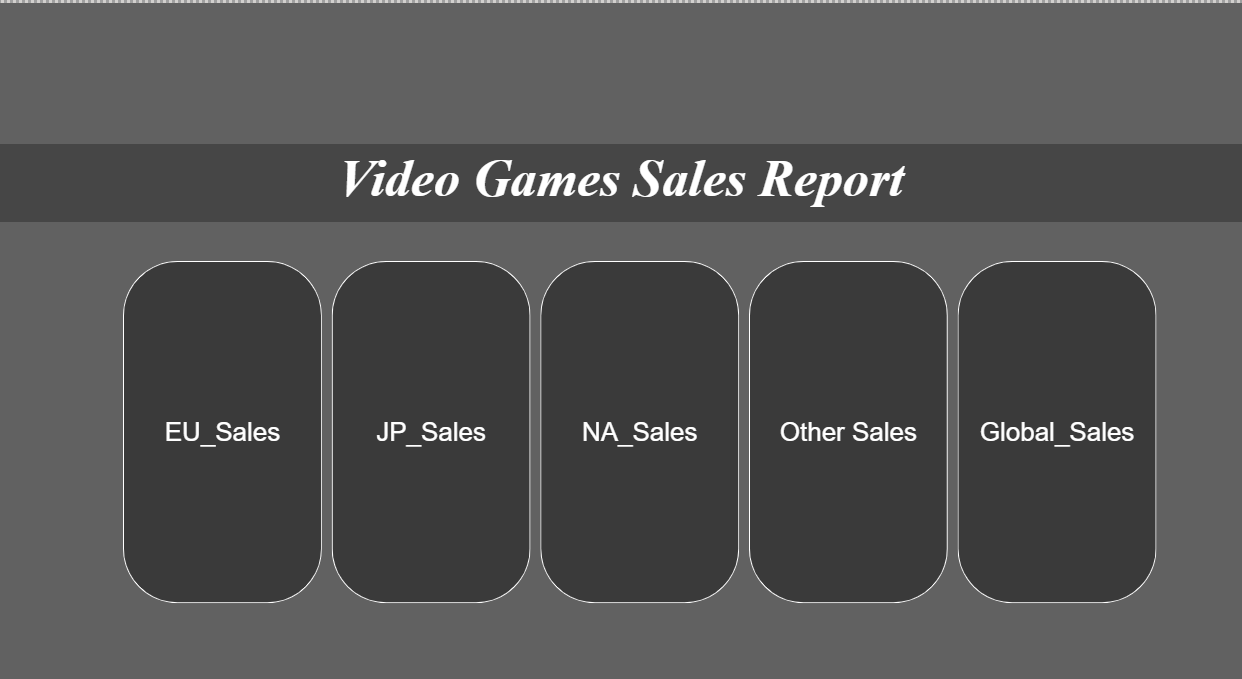

Layout of this report page (visuals, bound fields, positions):
{"tool":"powerbi","page":{"name":"Sales Data","canvas":[1280,720],"ordinal":0},"visuals":[{"type":"textbox","box":[0,144,1280,80],"z":0},{"type":"pageNavigator","box":[129.7,264.1,1061.3,351.7],"z":1000}]}

Visuals, with their boxes in screenshot pixels (x1, y1, x2, y2), scaled from the page's 1280x720 canvas onto the 1242x679 screenshot:
textbox: (0, 136, 1241, 211)
pageNavigator: (126, 249, 1156, 581)
